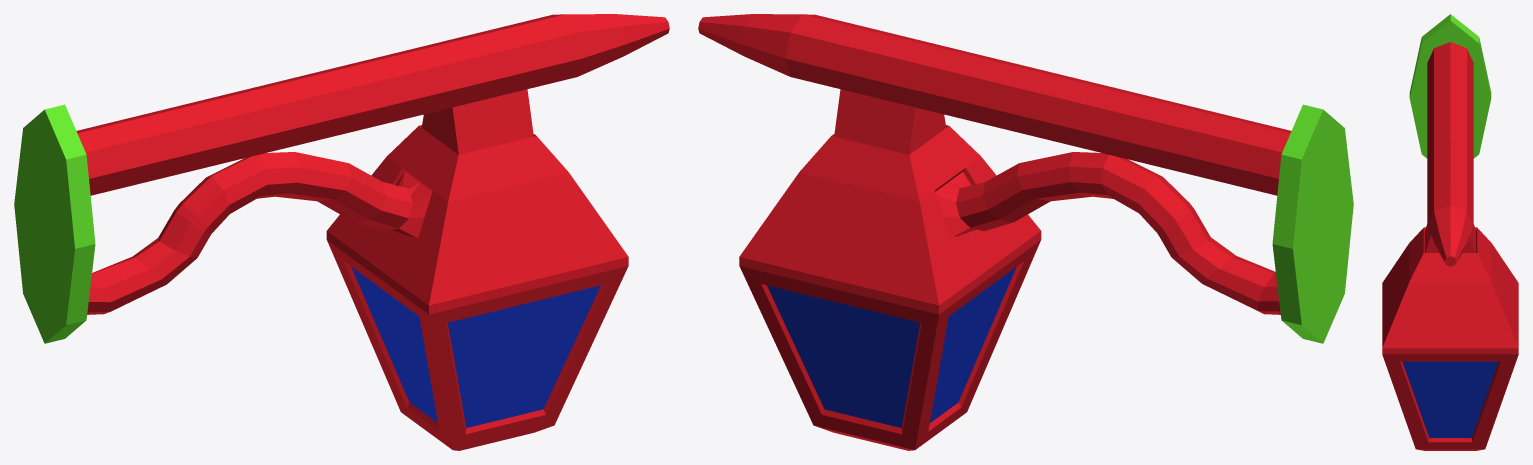
The model's file is door lantern.fbx.
3 renders of one model, left to right at view 1: azimuth 30°, elevation 25°; view 2: azimuth 150°, elevation 25°; view 3: azimuth 270°, elevation 25°, orthographic. The views are drawn at different scales.
Visible parts, largest first — view 1: Cylinder; view 2: Cylinder; view 3: Cylinder.
Part boxes in pixels (<box>): Cylinder: <box>14,14,669,450</box>; Cylinder: <box>698,14,1353,450</box>; Cylinder: <box>1382,14,1518,450</box>.
Bounding box in the file's own units: 20.68 × 13.5 × 5.89.
